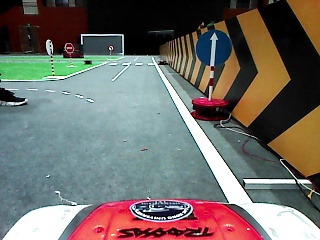straight: (194, 30, 231, 65)
